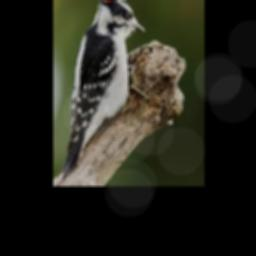Woodpecker: (56, 0, 151, 179)
